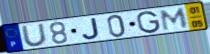0: (105, 13, 127, 39)
8: (49, 21, 69, 45)
G: (135, 10, 162, 35)
J: (81, 17, 101, 41)
M: (160, 7, 190, 32)
U: (20, 23, 49, 48)
